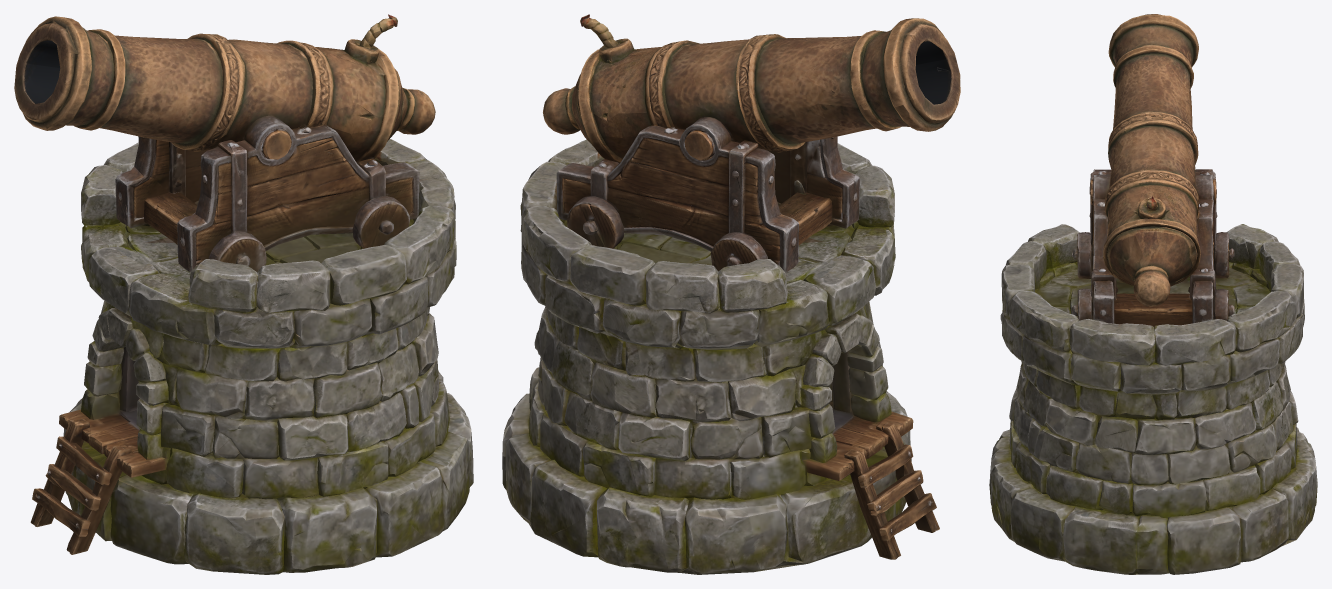
Rendered from SM_CannonTower.fbx.
3 renders of one model, left to right at view 1: azimuth 30°, elevation 25°; view 2: azimuth 150°, elevation 25°; view 3: azimuth 270°, elevation 25°, orthographic. The views are drawn at different scales.
Parts seen in each view (by area): view 1: SM_CannonTower_LOD0; view 2: SM_CannonTower_LOD0; view 3: SM_CannonTower_LOD0.
Boxes of the visible parts, x1,y1,x2,y2 form: SM_CannonTower_LOD0: [14, 14, 473, 574]; SM_CannonTower_LOD0: [502, 14, 960, 574]; SM_CannonTower_LOD0: [989, 14, 1317, 574].
Size of what is drawn, in the model's own units: 253 by 215 by 300.
